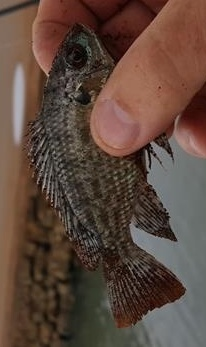Lepomis gibbosus: (20, 20, 186, 327)
